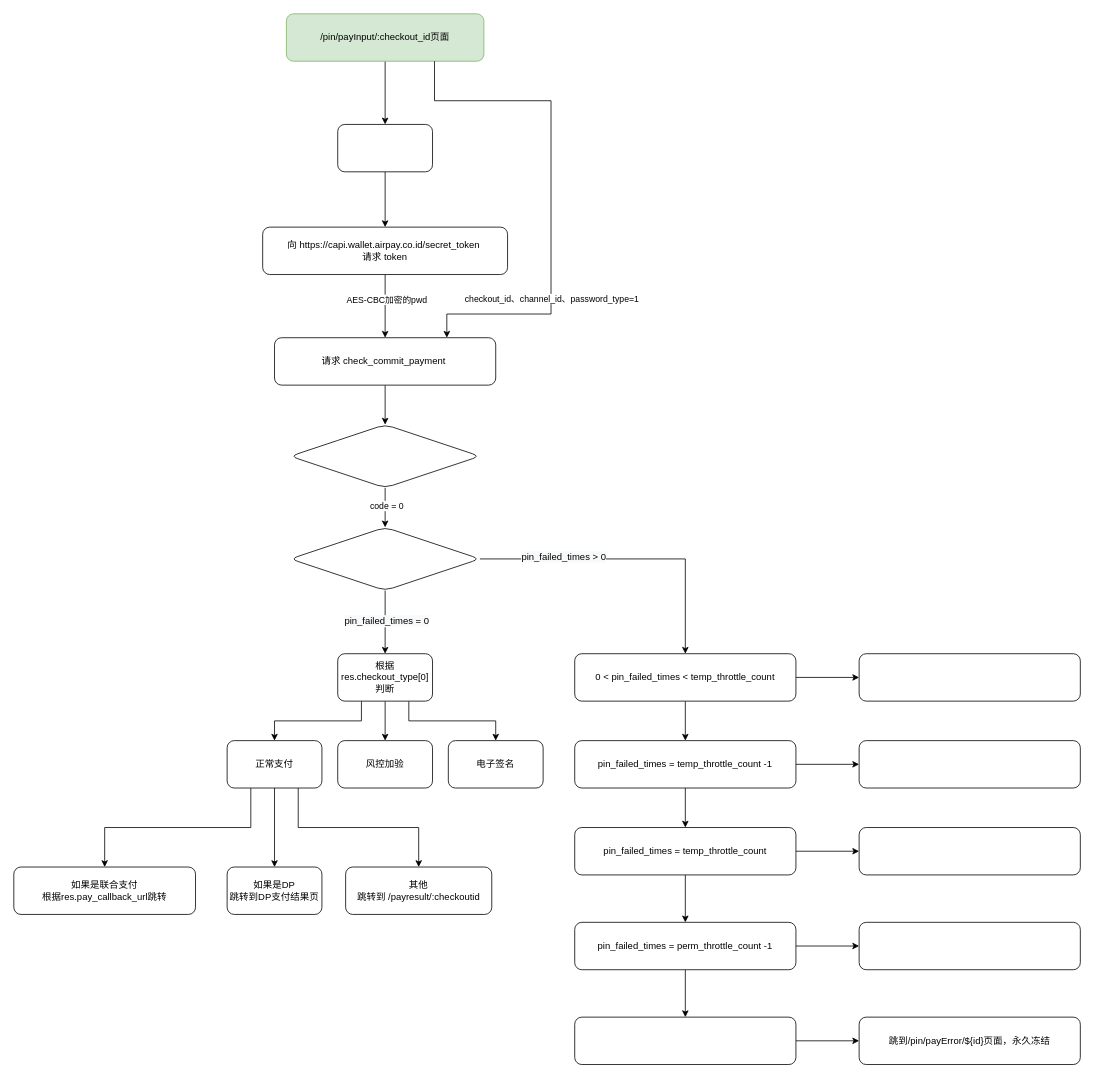
Some shapes in this 1094 by 1078 pixel diagram are drawn without their labels. The shapes that lost their labels are listed below. From the top down, each one's centre as x and y in pixels, then its label:
At (385,148): "输入PIN码满6位".
At (385,456): "res.code".
At (385,559): "res.pin_failed_times".
At (969,677): "提示 Please try again or reset your PIN".
At (969,764): "提示 1 more attempt left before ShopeePay Wallet is disabled for 30 minutes".
At (969,851): "跳到/pin/payError/${id}页面，暂时冻结".
At (969,946): "提示 more attempt left before ShopeePay Wallet is disabled".
At (685,1040): "pin_failed_times = perm_throttle_count".
